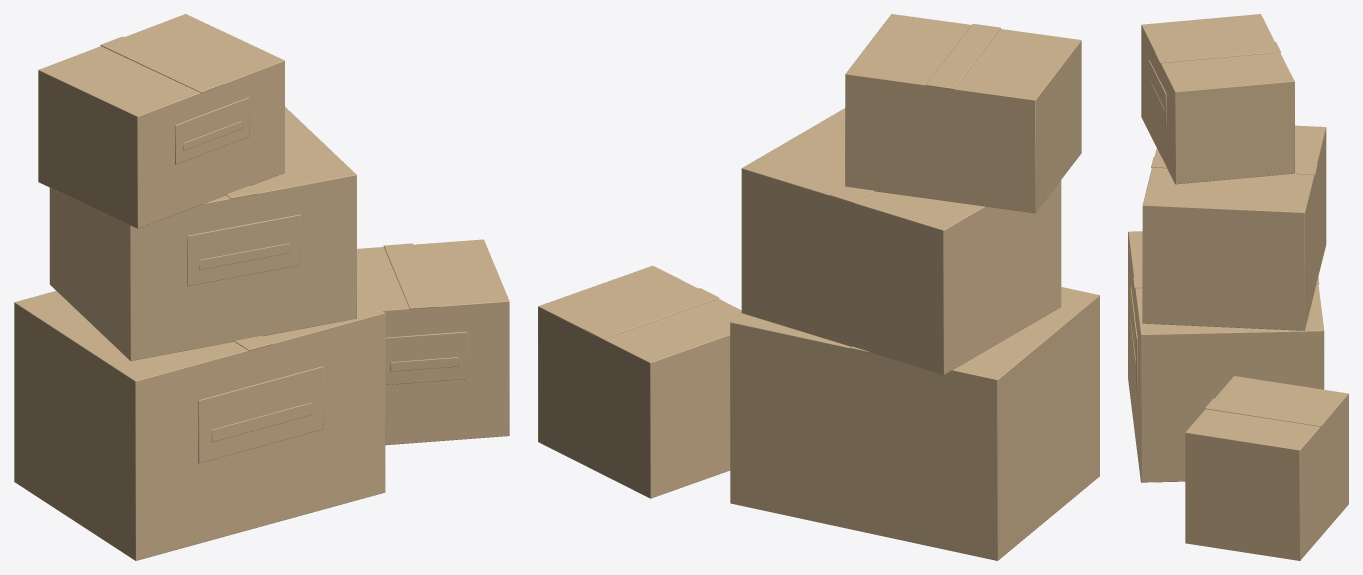
Rendered from ThungCarton_Chong.glb.
3 views of the same model, side by side, from view 1: azimuth 30°, elevation 25°; view 2: azimuth 150°, elevation 25°; view 3: azimuth 270°, elevation 25° (orthographic). The views are drawn at different scales.
Visible parts, largest first — view 1: ThungCarton_Chong; view 2: ThungCarton_Chong; view 3: ThungCarton_Chong.
Boxes of the visible parts, x1=… form: ThungCarton_Chong: x1=14, y1=14, x2=509, y2=560; ThungCarton_Chong: x1=538, y1=14, x2=1099, y2=560; ThungCarton_Chong: x1=1128, y1=14, x2=1348, y2=560.
Size of the model in its own units: 1.09 by 0.972 by 0.5408.
